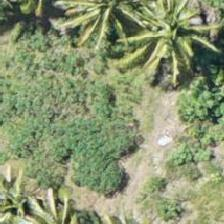coconut_tree: (104, 0, 194, 69), (45, 0, 135, 46)
